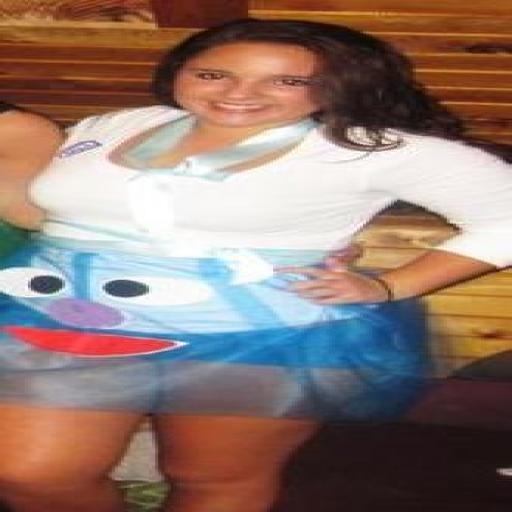person: (0, 19, 511, 511), (0, 101, 62, 255), (0, 102, 62, 228)
